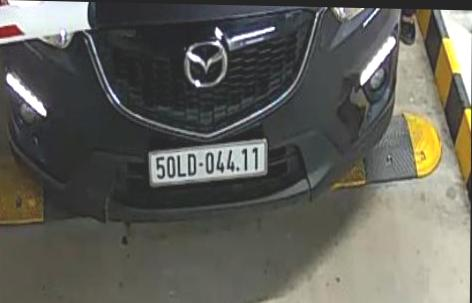License_Plate: (147, 136, 275, 189)
